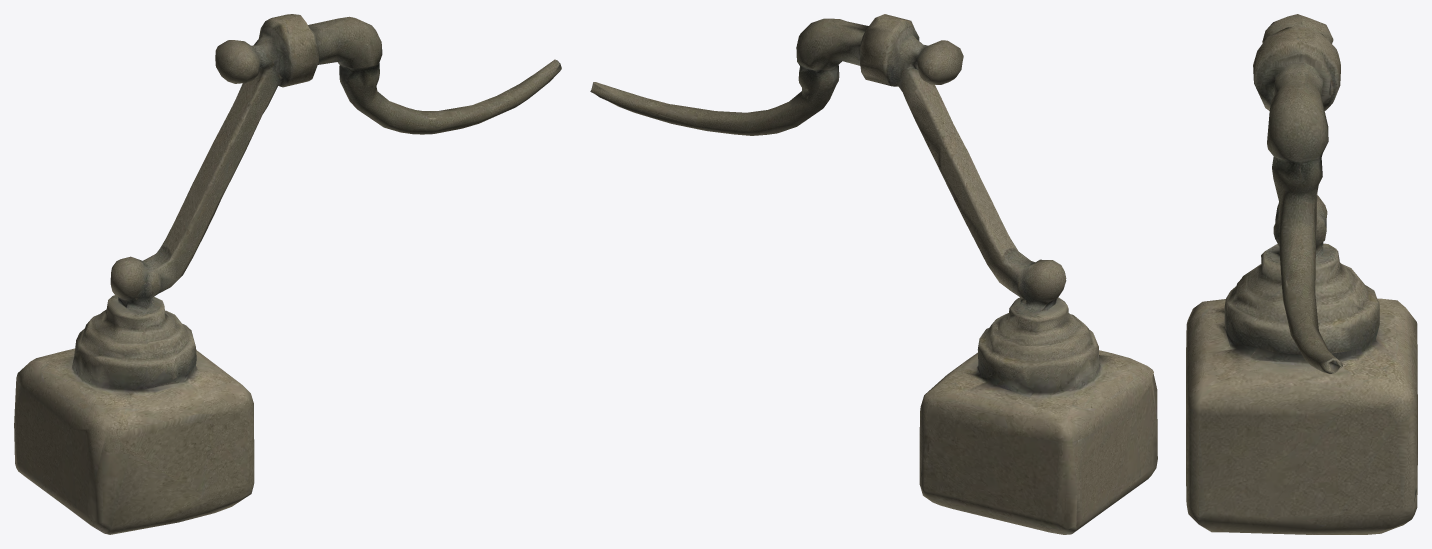
File: lever.glb
The picture shows the model from 3 angles, left to right: view 1: azimuth 30°, elevation 25°; view 2: azimuth 150°, elevation 25°; view 3: azimuth 270°, elevation 25°; orthographic projection. The views are drawn at different scales.
Size of the model in its own units: 1.54 by 1.25 by 0.4739.
Materials: 1 (1 with a texture image).
